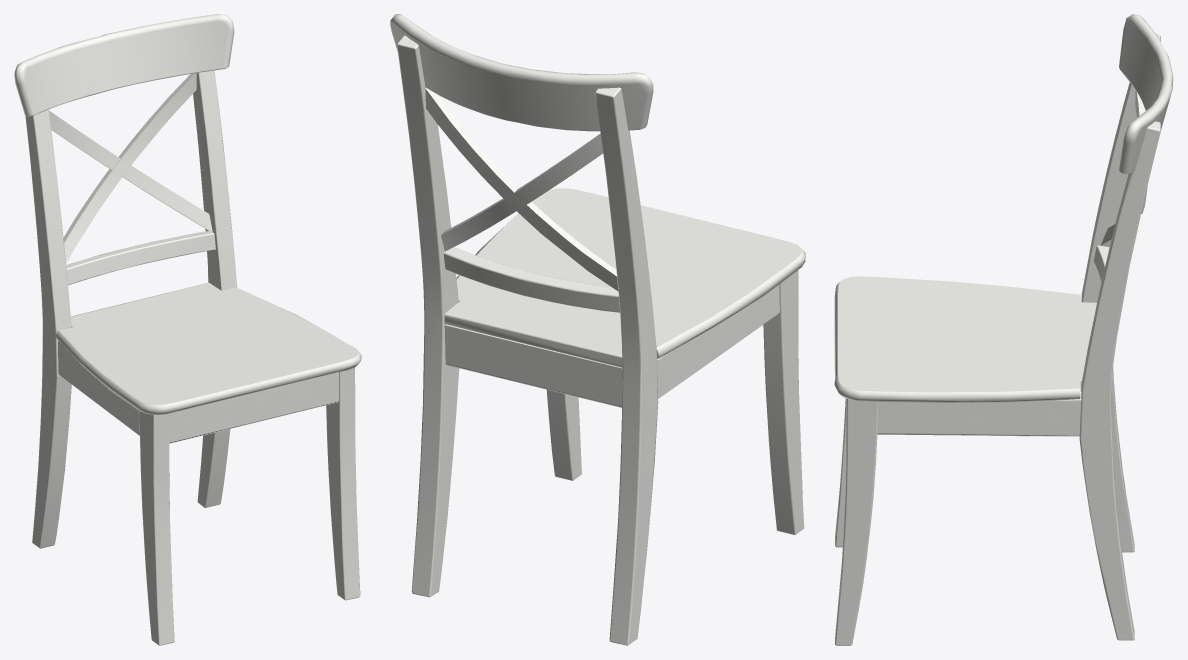
Rendered from 25 - ROSENTORP Chair - white.glb.
3 views of the same model, side by side, from view 1: azimuth 30°, elevation 25°; view 2: azimuth 150°, elevation 25°; view 3: azimuth 270°, elevation 25° (orthographic). The views are drawn at different scales.
Parts seen in each view (by area): view 1: ASY_ART_80569998_S01_NV01; view 2: ASY_ART_80569998_S01_NV01; view 3: ASY_ART_80569998_S01_NV01.
Part boxes in pixels (x1,y1,x2,y2): ASY_ART_80569998_S01_NV01: [14, 14, 361, 645]; ASY_ART_80569998_S01_NV01: [390, 14, 805, 645]; ASY_ART_80569998_S01_NV01: [834, 14, 1173, 645].
Bounding box in the file's own units: 0.4366 × 0.91 × 0.5323.
Materials: 1 (1 with a texture image).
